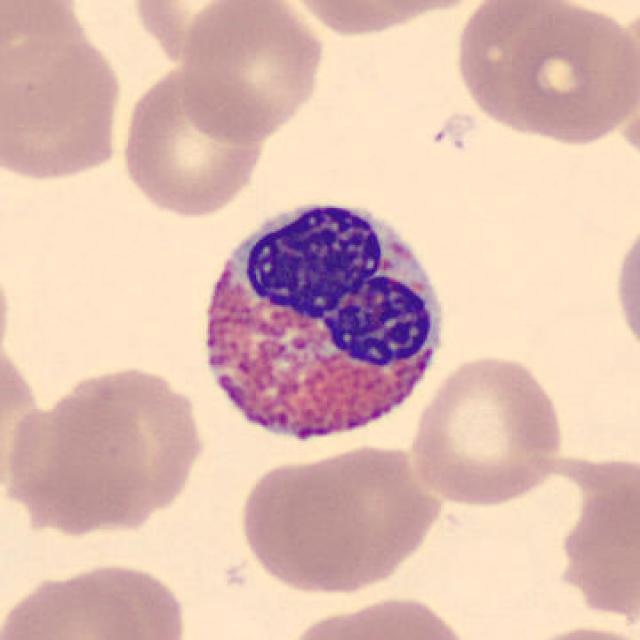Eosinophil: (187, 180, 457, 464)
RBC: (243, 439, 450, 596), (30, 360, 208, 530), (405, 349, 569, 510), (118, 60, 268, 220), (309, 424, 451, 590), (176, 2, 327, 143), (2, 19, 128, 187), (499, 0, 636, 148), (456, 4, 596, 120), (0, 560, 181, 640), (564, 447, 640, 624), (0, 0, 88, 135), (284, 590, 478, 640), (128, 0, 268, 69), (279, 0, 471, 39), (0, 352, 46, 494), (608, 212, 640, 366), (505, 620, 640, 640), (354, 0, 496, 18)
